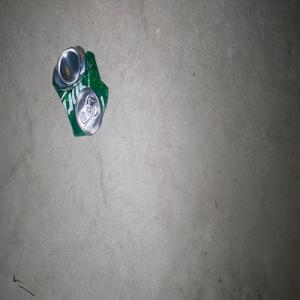SodaCan: (52, 44, 108, 137)
